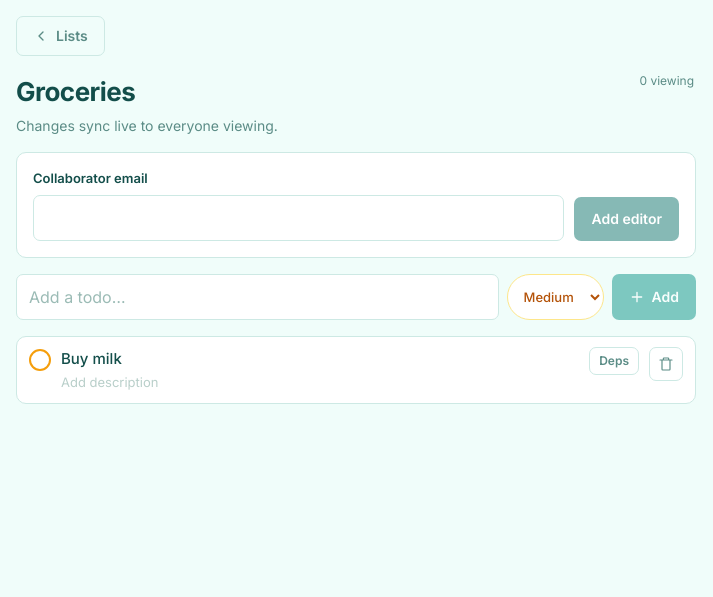
Test: ListDetail › reloads a confirmed todo after patch failure and retains the operation alert
The image size is (713, 597).
Click the button "Deps". click: click(614, 360)
box: [589, 346, 639, 374]
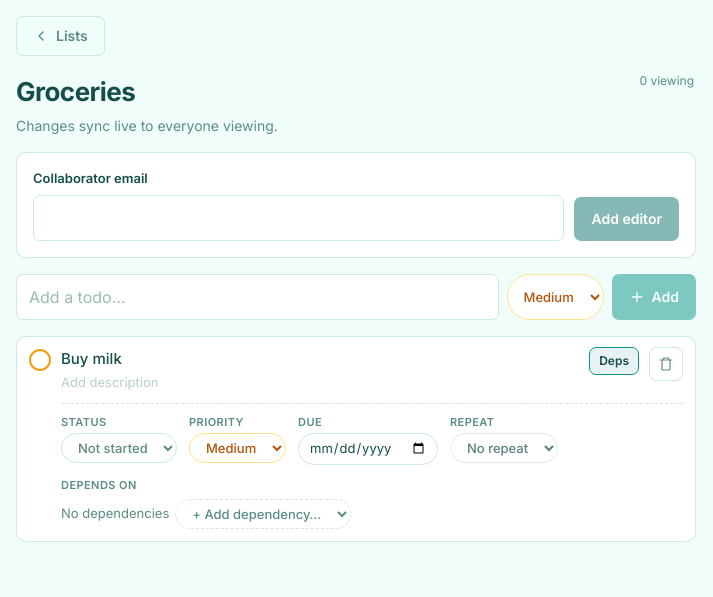
Select "High" in the dropdown labelled "Priority". click: (238, 448)
box: [189, 433, 286, 463]
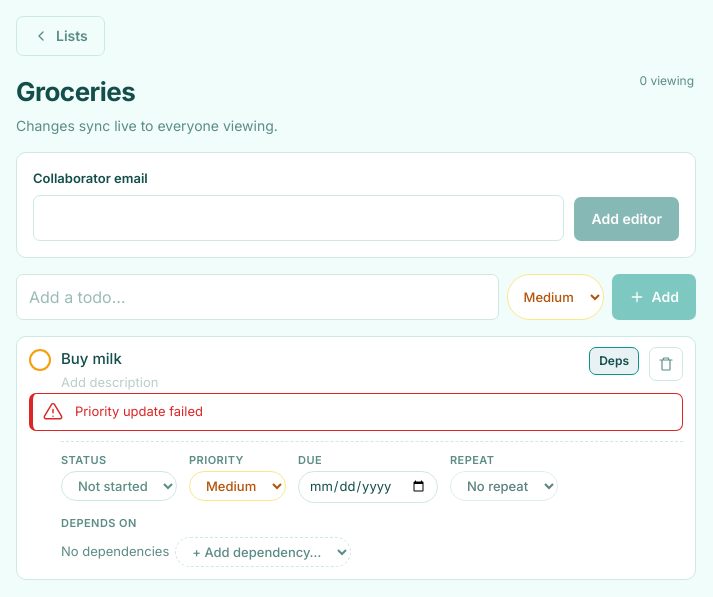
Check: the message reads "Priority update failed", box [75, 403, 203, 419]
Select "High" in the dropdown labelled "Priority". click: (238, 486)
box: [189, 471, 286, 501]
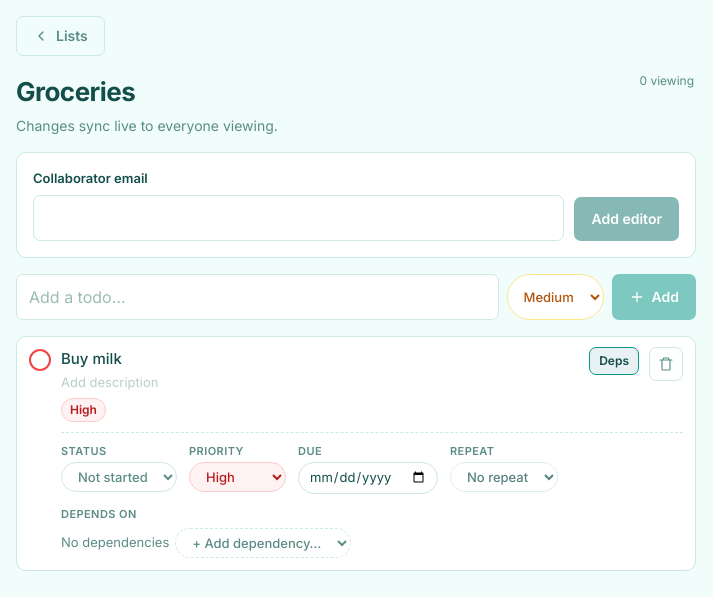
Check: the message "Priority update failed" is gone
